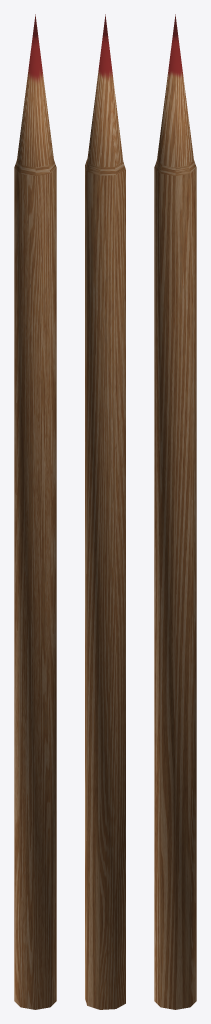
The model's file is pale.fbx.
3 views of the same model, side by side, from view 1: azimuth 90°, elevation 25°; view 2: azimuth 210°, elevation 25°; view 3: azimuth 270°, elevation 25° (orthographic).
Visible parts, largest first — view 1: Cylinder; view 2: Cylinder; view 3: Cylinder.
Part boxes in pixels (x1,y1,x2,y2): Cylinder: [14, 14, 56, 1009]; Cylinder: [85, 14, 125, 1009]; Cylinder: [154, 14, 196, 1009].
Size of the model in its own units: 40.82 by 1055 by 40.82.
